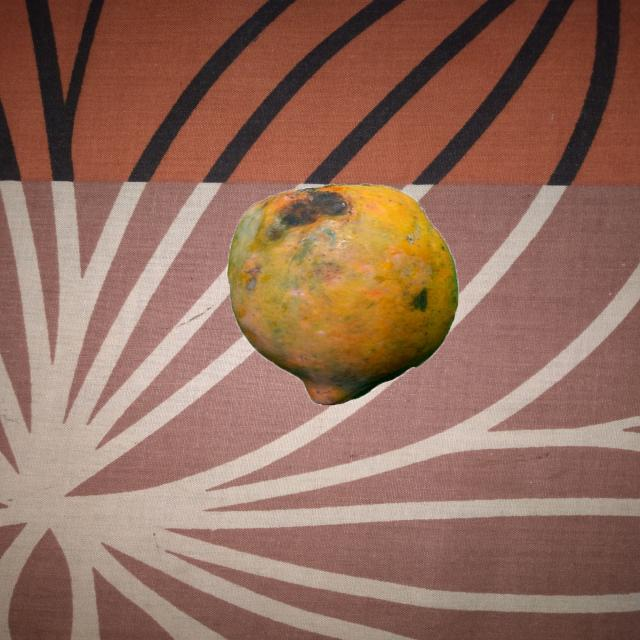Pepaya rippen: (224, 172, 459, 412)
